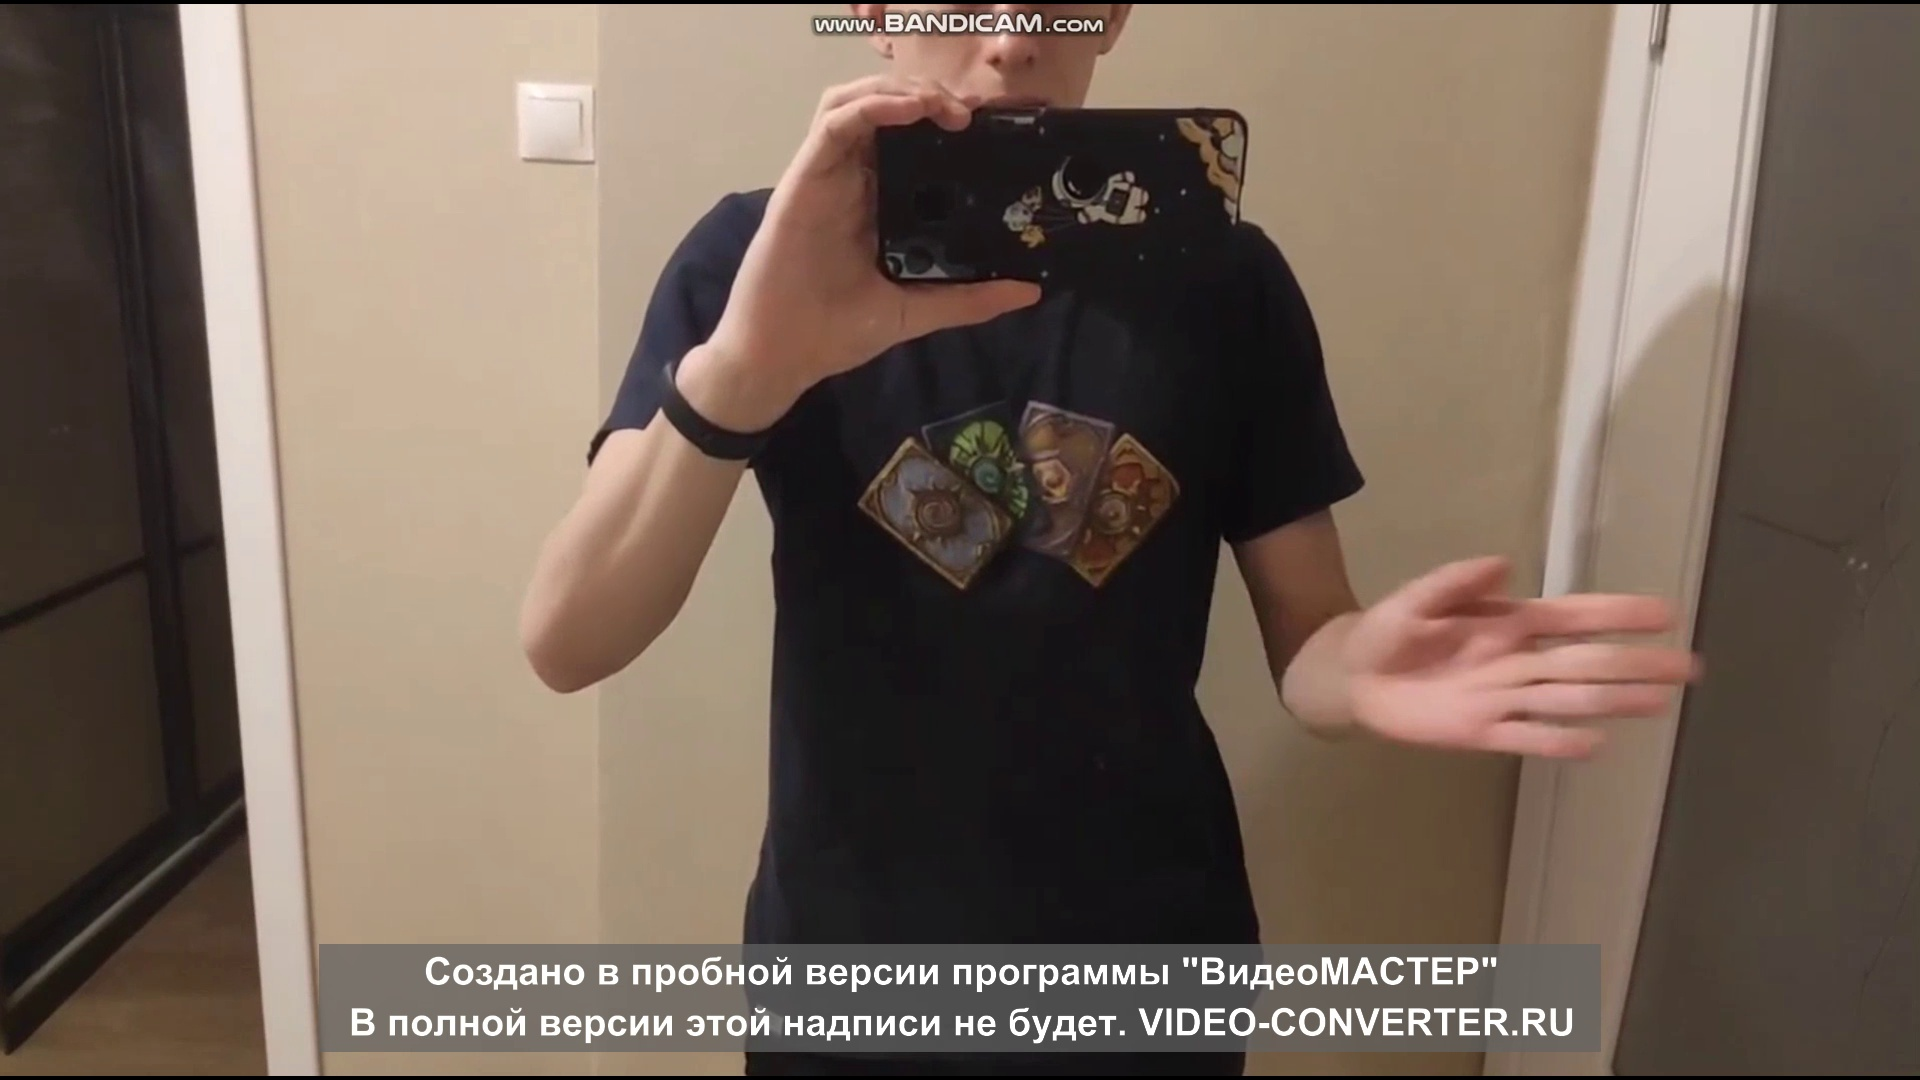Ладонь: (1353, 556, 1698, 762)
